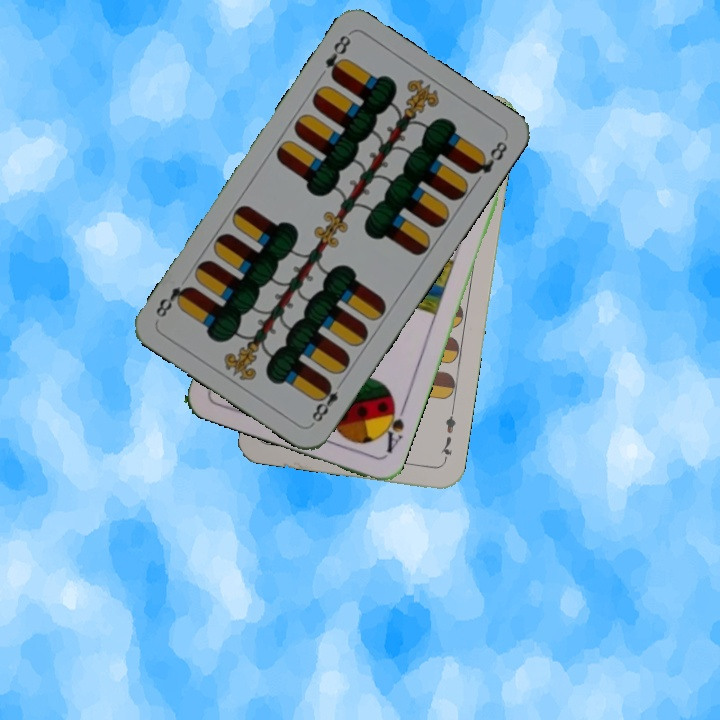E7: (436, 406, 459, 465)
E8: (314, 31, 354, 83), (307, 377, 347, 427)
SA: (376, 397, 409, 456)
